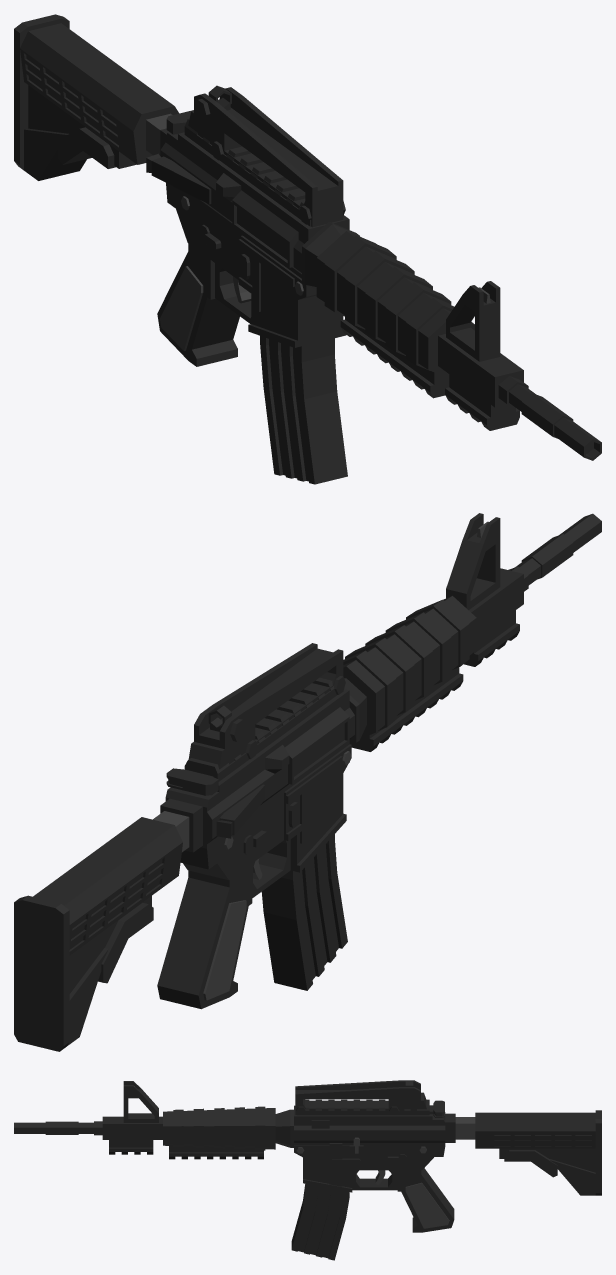
3 views of the same model, one above another, from view 1: azimuth 30°, elevation 25°; view 2: azimuth 150°, elevation 25°; view 3: azimuth 270°, elevation 25° (orthographic). The views are drawn at different scales.
Parts seen in each view (by area): view 1: AR_A_Stock, AR_N_BarrelGuard, AR_A_Receiver_Down, AR_A_Barrel, AR_A_Mag, AR_A_Sight, AR_A_Receiver_Up, AR_A_Grip, AR_A_Rail, AR_A_BarrelGuard_Rail; view 2: AR_A_Stock, AR_A_Receiver_Down, AR_N_BarrelGuard, AR_A_Grip, AR_A_Barrel, AR_A_Mag, AR_A_Sight, AR_A_Receiver_Up, AR_A_Rail, AR_A_BarrelGuard_Rail, AR_N_Bolt; view 3: AR_A_Stock, AR_A_Receiver_Down, AR_N_BarrelGuard, AR_A_Receiver_Up, AR_A_Barrel, AR_A_Sight, AR_A_Mag, AR_A_Grip, AR_A_Rail, AR_A_BarrelGuard_Rail.
Boxes of the visible parts, left/top/right/bottom form: AR_A_Stock: left=14, top=14, right=179, bottom=180; AR_N_BarrelGuard: left=302, top=221, right=474, bottom=378; AR_A_Receiver_Down: left=146, top=113, right=346, bottom=347; AR_A_Barrel: left=438, top=281, right=601, bottom=460; AR_A_Mag: left=260, top=336, right=347, bottom=484; AR_A_Sight: left=188, top=85, right=345, bottom=227; AR_A_Receiver_Up: left=146, top=132, right=349, bottom=278; AR_A_Grip: left=157, top=243, right=239, bottom=366; AR_A_Rail: left=184, top=118, right=311, bottom=226; AR_A_BarrelGuard_Rail: left=340, top=319, right=449, bottom=398; AR_A_Stock: left=14, top=817, right=182, bottom=1051; AR_A_Receiver_Down: left=153, top=744, right=351, bottom=897; AR_N_BarrelGuard: left=343, top=596, right=476, bottom=744; AR_A_Grip: left=157, top=863, right=252, bottom=1009; AR_A_Barrel: left=446, top=513, right=601, bottom=666; AR_A_Mag: left=261, top=834, right=347, bottom=990; AR_A_Sight: left=188, top=643, right=345, bottom=769; AR_A_Receiver_Up: left=216, top=689, right=354, bottom=839; AR_A_Rail: left=184, top=677, right=337, bottom=781; AR_A_BarrelGuard_Rail: left=351, top=667, right=463, bottom=751; AR_N_Bolt: left=166, top=768, right=218, bottom=795; AR_A_Stock: left=475, top=1110, right=601, bottom=1195; AR_A_Receiver_Down: left=294, top=1112, right=475, bottom=1192; AR_N_BarrelGuard: left=163, top=1106, right=293, bottom=1150; AR_A_Receiver_Up: left=294, top=1105, right=432, bottom=1145; AR_A_Barrel: left=14, top=1081, right=162, bottom=1154; AR_A_Sight: left=295, top=1080, right=426, bottom=1115; AR_A_Mag: left=291, top=1183, right=349, bottom=1260; AR_A_Grip: left=397, top=1168, right=454, bottom=1232; AR_A_Rail: left=296, top=1099, right=429, bottom=1115; AR_A_BarrelGuard_Rail: left=169, top=1144, right=263, bottom=1159.
Bounding box in the file's own units: 0.3566 × 1.53 × 4.64.
